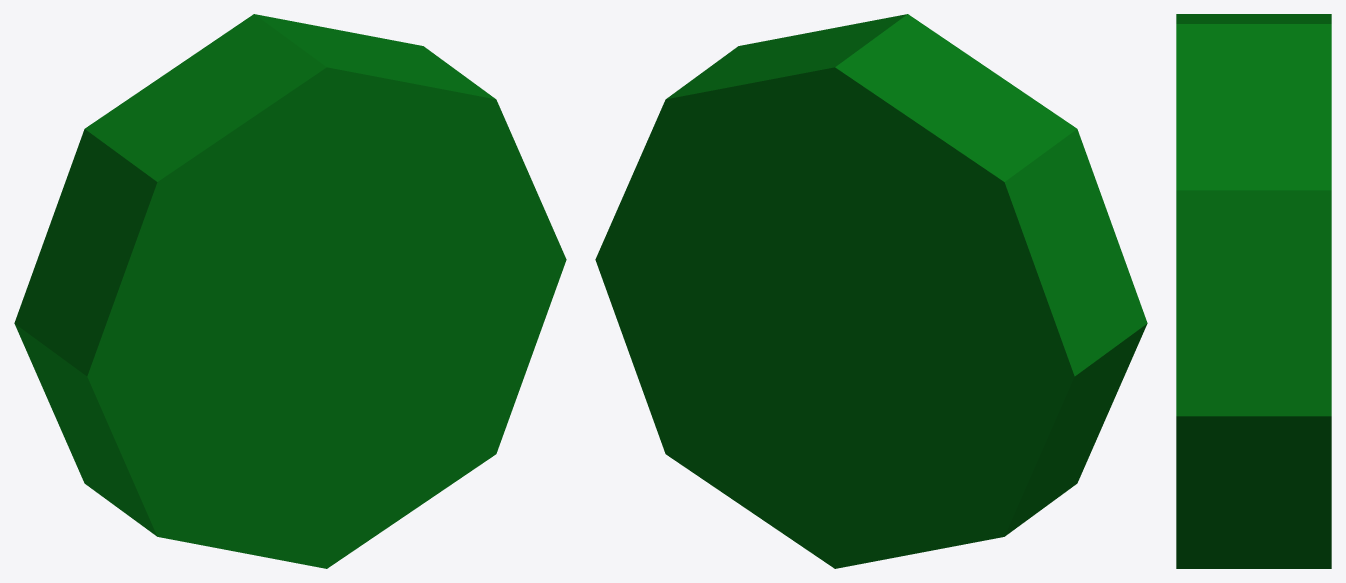
File: Boton06.fbx
3 views of the same model, side by side, from view 1: azimuth 30°, elevation 25°; view 2: azimuth 150°, elevation 25°; view 3: azimuth 270°, elevation 25° (orthographic). The views are drawn at different scales.
Visible parts, largest first — view 1: Boton06; view 2: Boton06; view 3: Boton06.
Part boxes in pixels (x1=…): Boton06: x1=14, y1=14, x2=566, y2=568; Boton06: x1=595, y1=14, x2=1147, y2=568; Boton06: x1=1176, y1=14, x2=1331, y2=568.
Size of the model in its own units: 0.02 by 0.02 by 0.00527.
